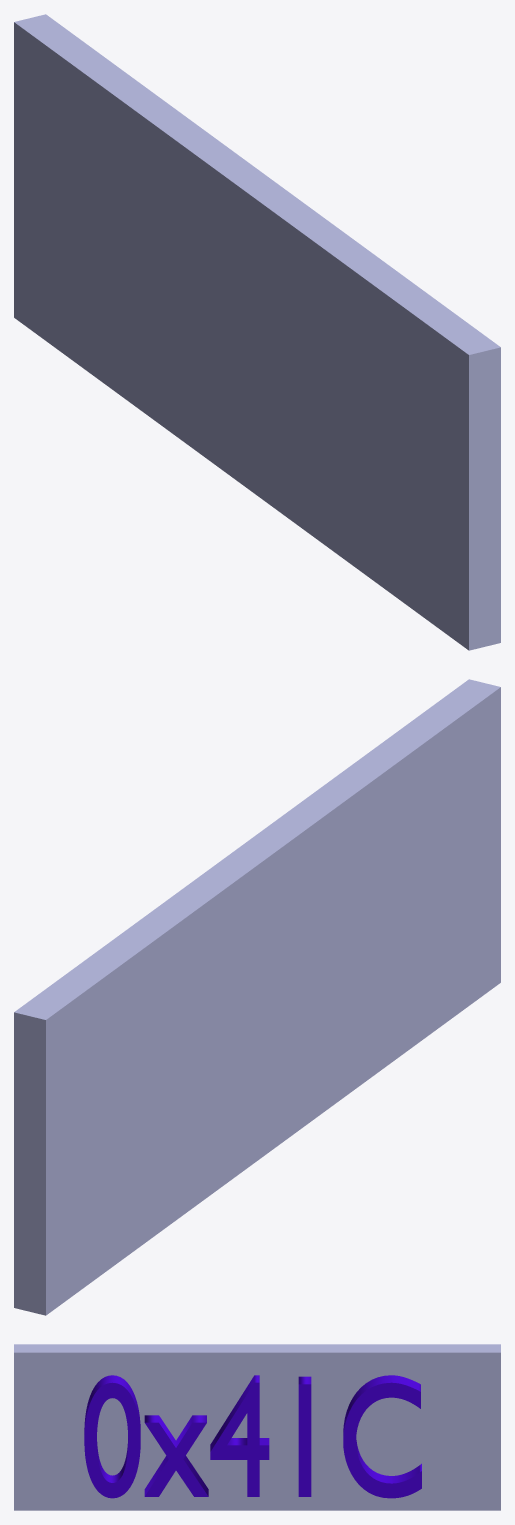
3 renders of one model, top to bottom at view 1: azimuth 30°, elevation 25°; view 2: azimuth 150°, elevation 25°; view 3: azimuth 270°, elevation 25°, orthographic. The views are drawn at different scales.
Visible parts, largest first — view 1: Cube; view 2: Cube; view 3: Cube, Text.
Part boxes in pixels (<box>): Cube: <box>14,14,500,650</box>; Cube: <box>14,679,500,1315</box>; Cube: <box>14,1344,500,1510</box>; Text: <box>84,1375,421,1498</box>.
Bounding box in the file's own units: 2.65 × 12.33 × 34.39.
